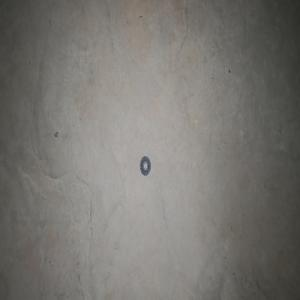Washer: (139, 155, 151, 176)
